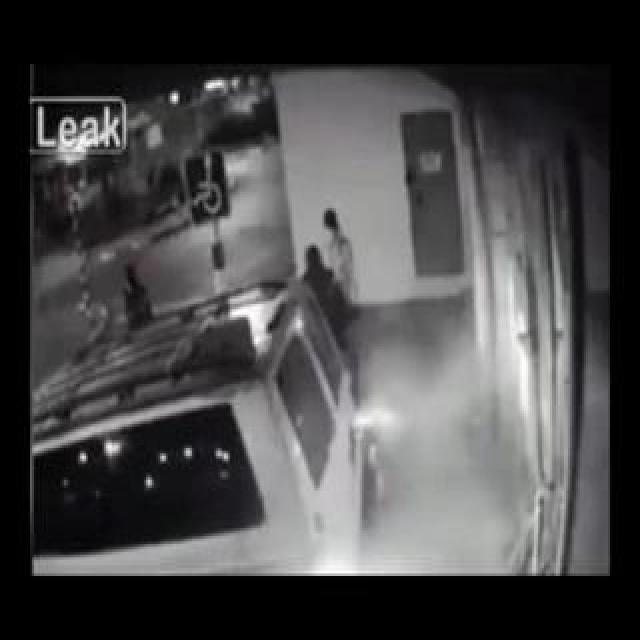burglary: (429, 213, 569, 524)
